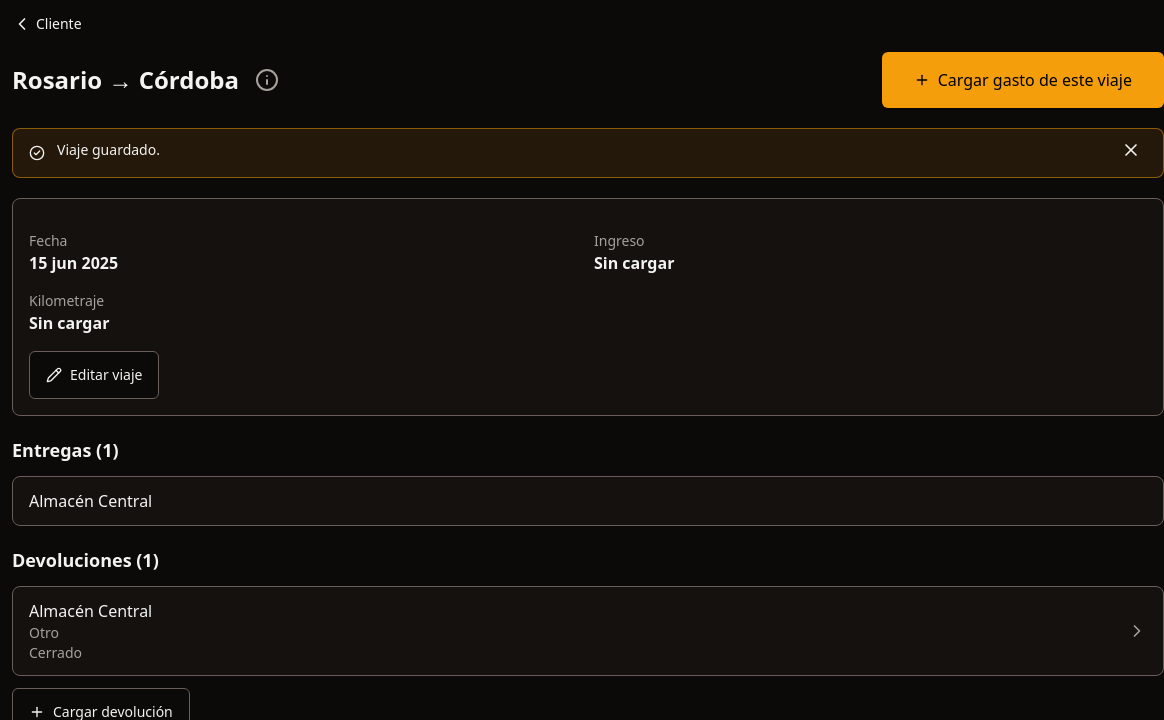
Test: detalle del viaje abierto desde un cliente › cerrar el aviso conserva el cliente (el enlace sigue diciendo "Cliente")
The width and height of the screenshot is (1164, 720).
Click the button named "Cerrar aviso" at (1131, 150), box [1107,126,1155,174]
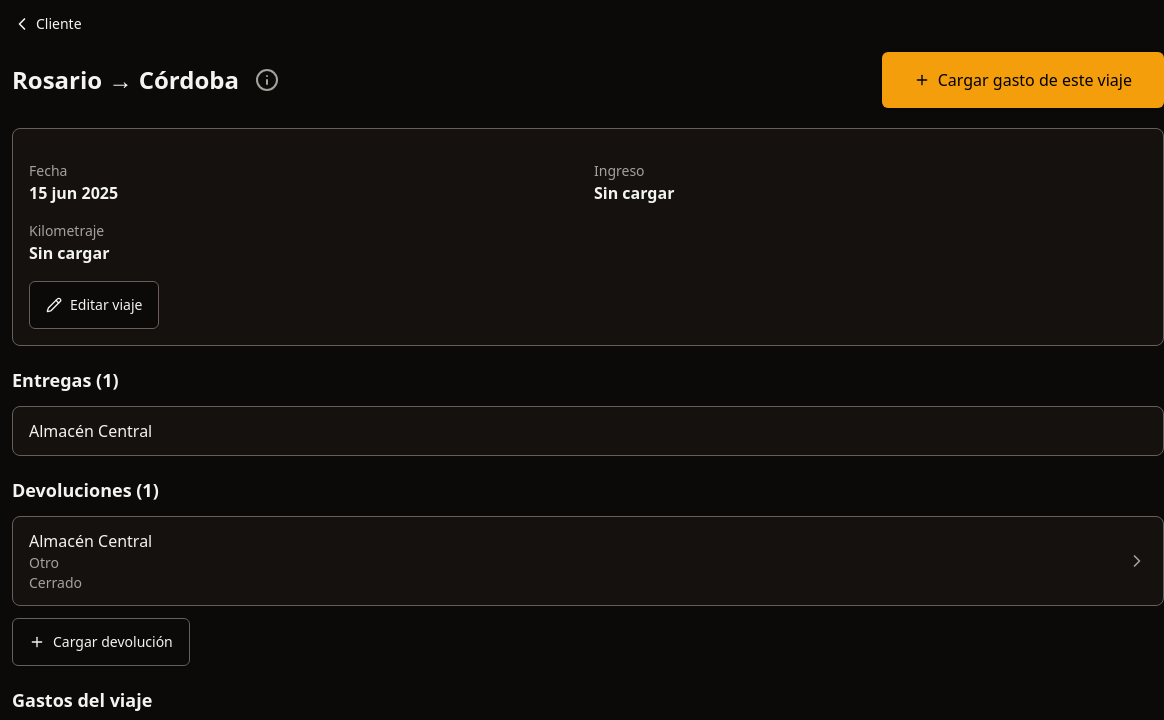
Check: the link with class "min-h-12" reads "Cliente", box [12,14,82,34]
Check: the text "Viaje guardado." is gone
